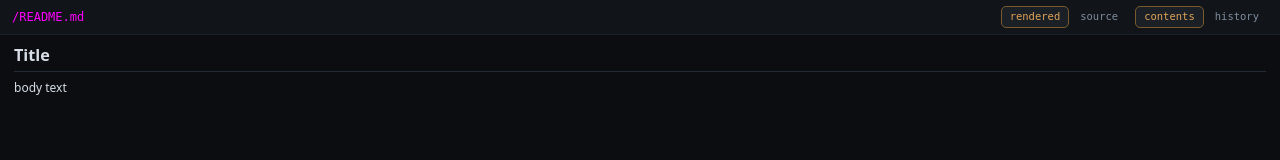
it: hides the render toggle while the history tab is open
Expected: the text "body text" is shown, [14,79,67,96]
Click the tab "history" at (1237, 17), box [1206,6,1268,28]
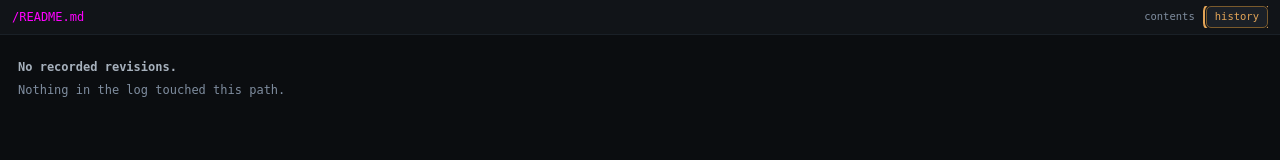
Expected: the radio button labelled "rendered" is gone
